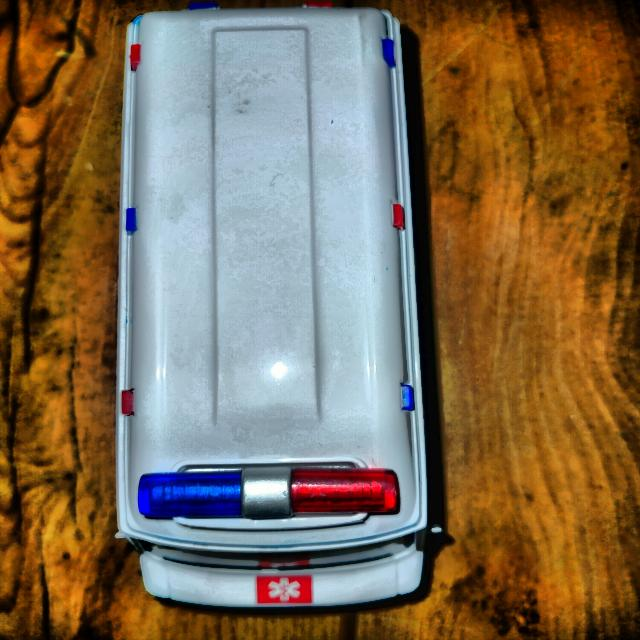Ambulance: (117, 2, 444, 610)
